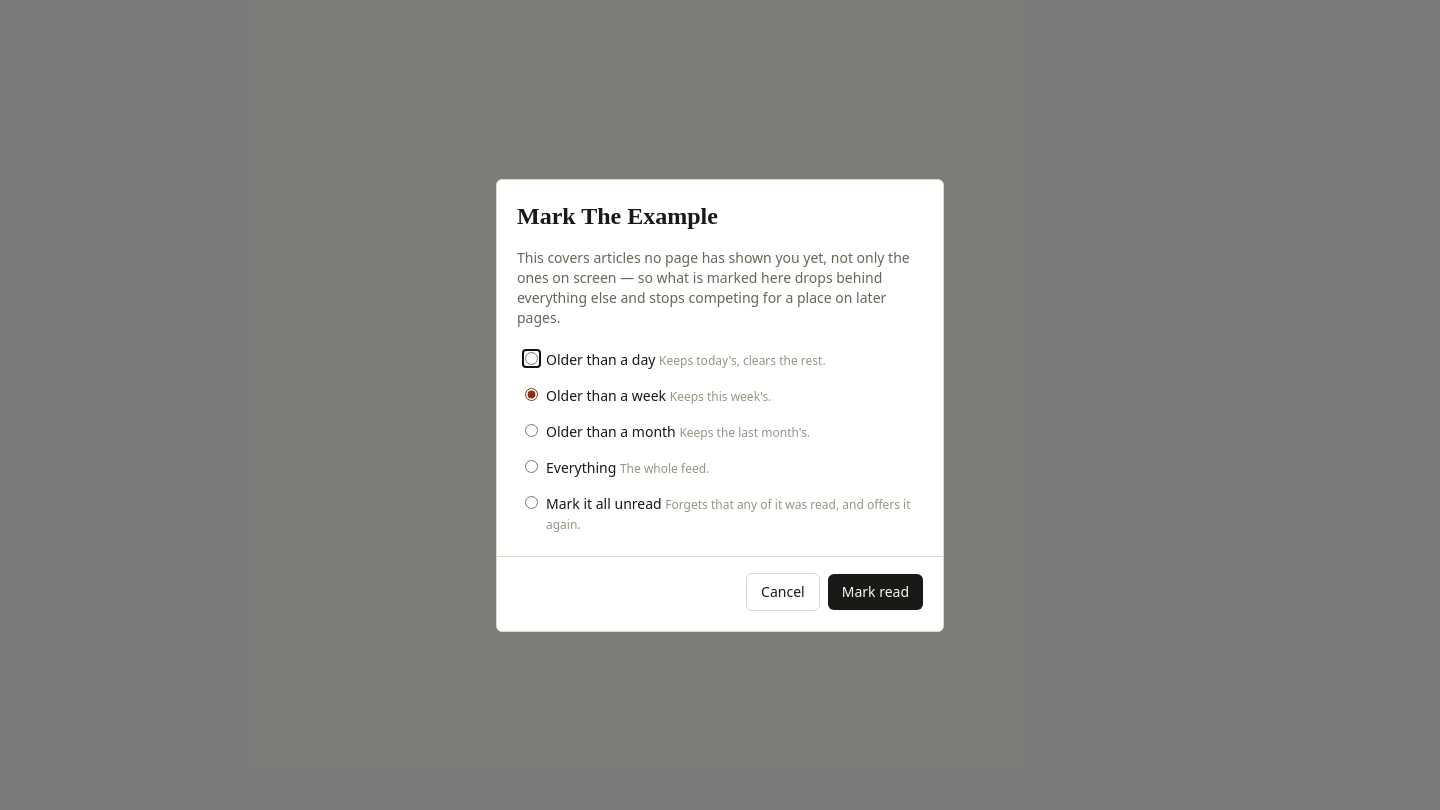
Test: MarkReadDialog › sends the span that was chosen
Click the radio button labelled "Older than a month Keeps the last month's.".
click(532, 430)  # box [525, 424, 538, 436]
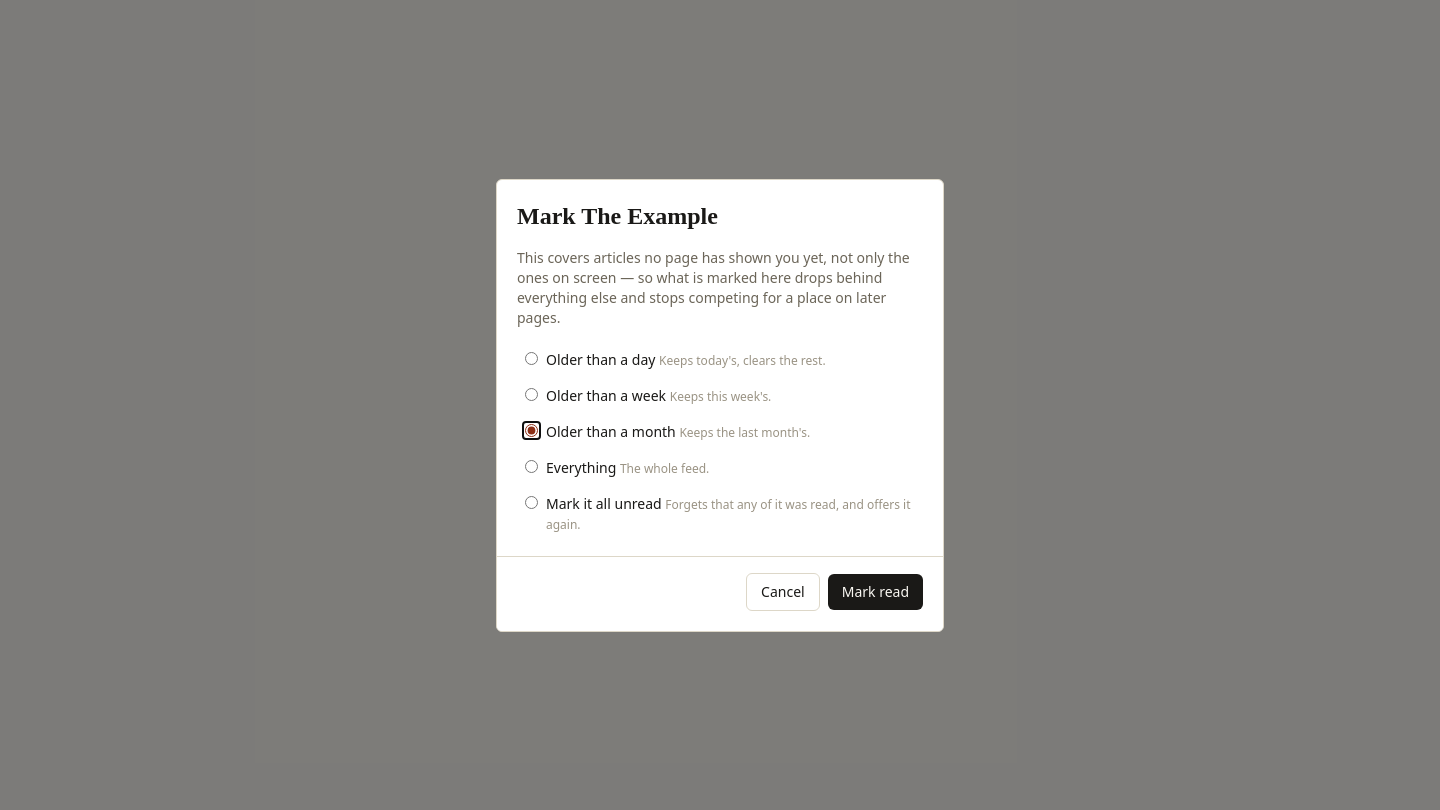
Click the button "Mark read".
click(875, 592)  # box [828, 574, 923, 610]
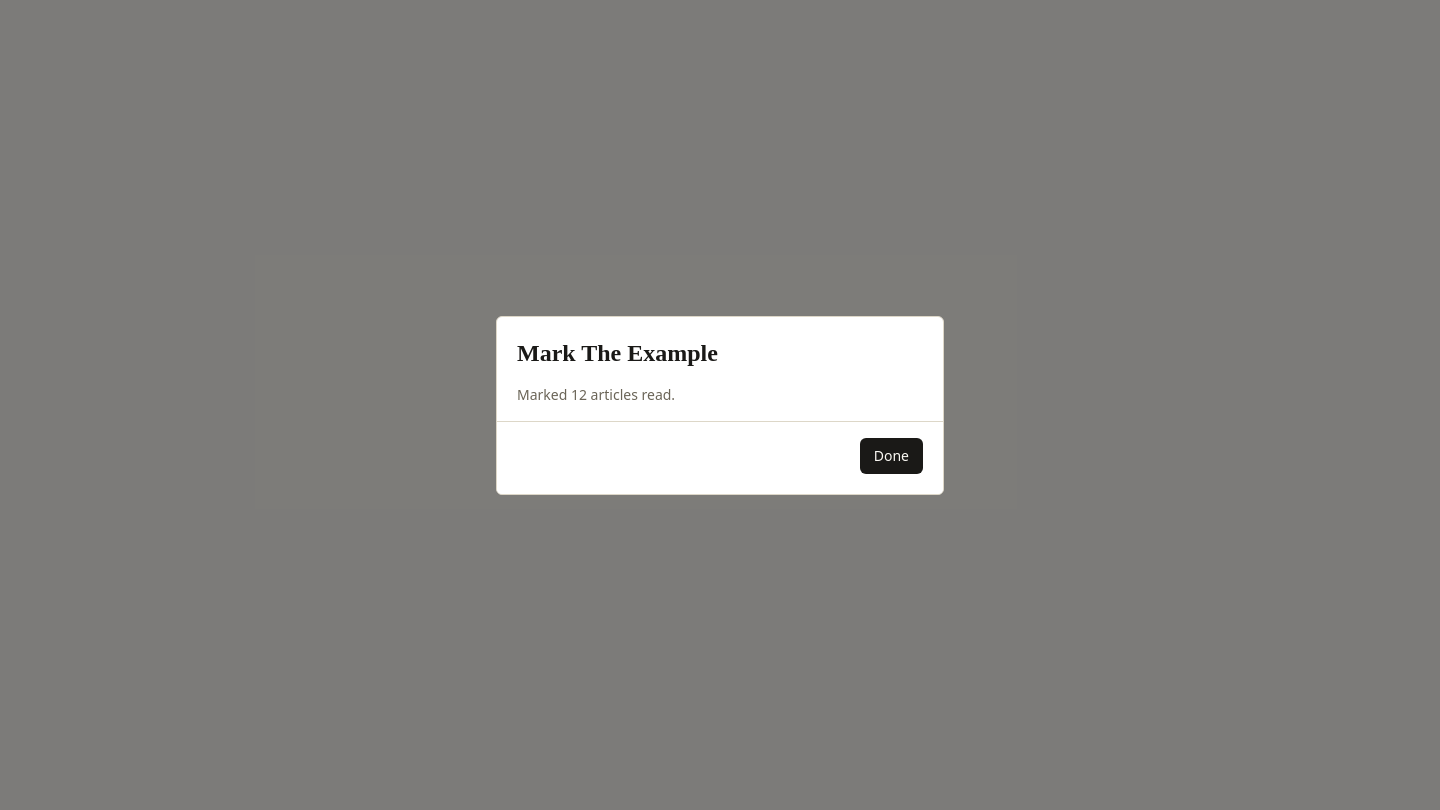
Now the text "Marked 12 articles read." is shown, box [517, 384, 675, 404]
